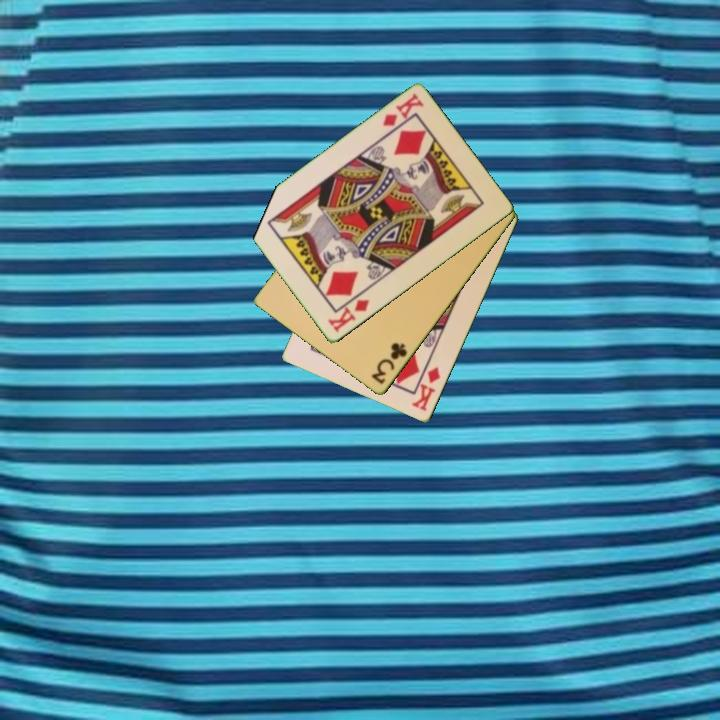3c: (368, 339, 410, 387)
Kd: (324, 296, 373, 336), (379, 90, 427, 130), (408, 364, 444, 414)
